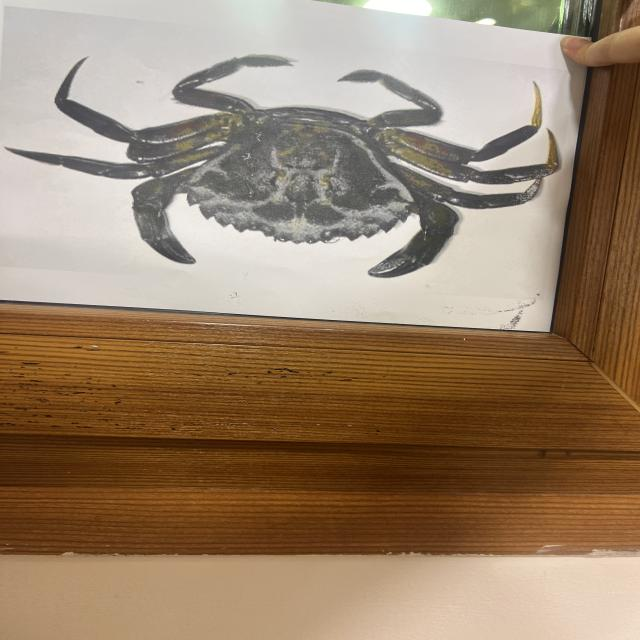European_Green_Crab: (0, 31, 577, 299)
